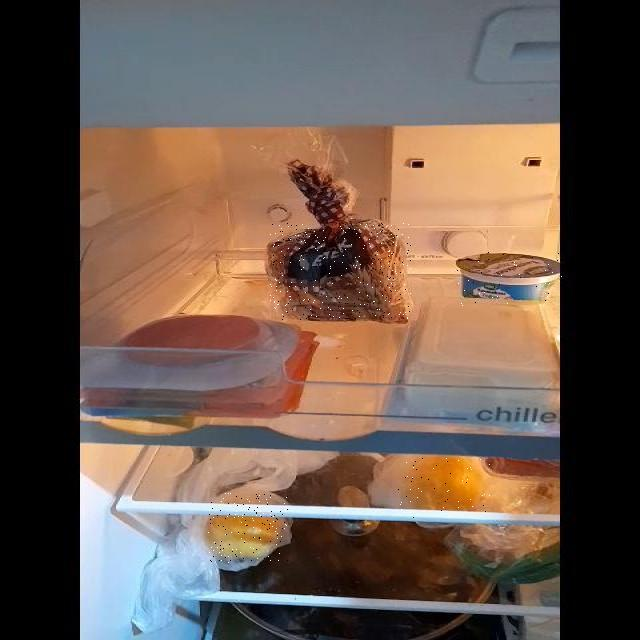bread: (268, 223, 411, 320)
green chilies: (458, 553, 562, 588)
lemon: (398, 457, 491, 519), (208, 493, 288, 563)
yoghurt: (457, 252, 563, 306)
